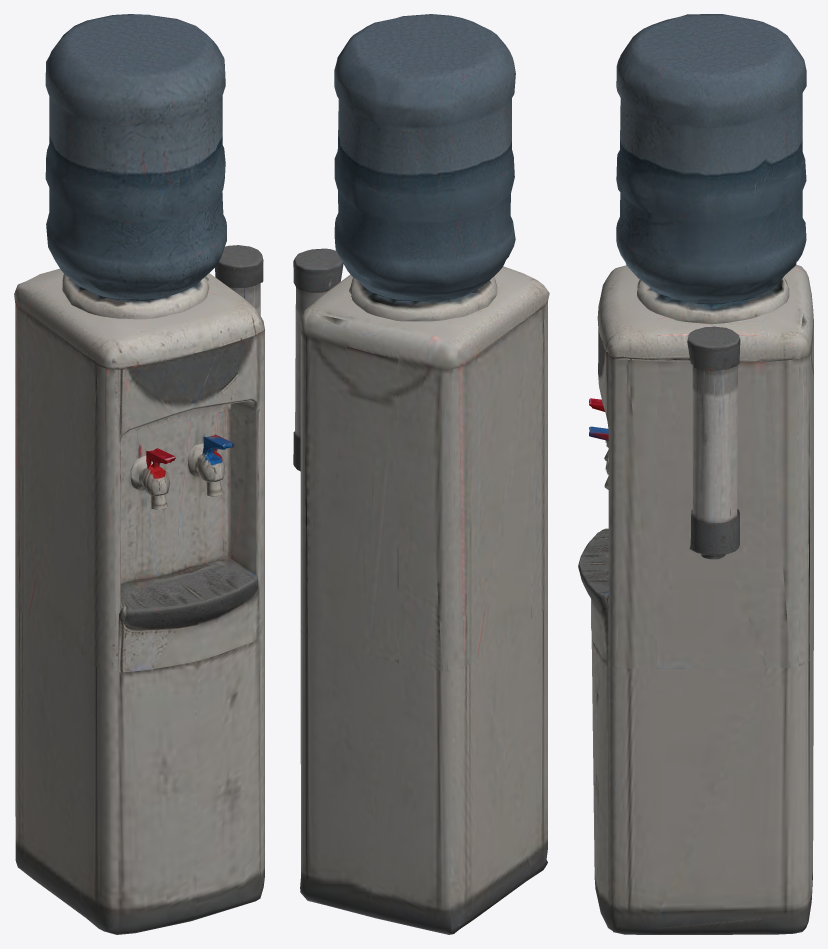
The model's file is p7-water-cooler-t25.glb.
The picture shows the model from 3 angles, left to right: view 1: azimuth 30°, elevation 25°; view 2: azimuth 150°, elevation 25°; view 3: azimuth 270°, elevation 25°; orthographic projection.
Visible parts, largest first — view 1: p7-water-cooler-t25; view 2: p7-water-cooler-t25; view 3: p7-water-cooler-t25.
Part boxes in pixels (<box>): p7-water-cooler-t25: <box>14,14,264,934</box>; p7-water-cooler-t25: <box>293,14,549,934</box>; p7-water-cooler-t25: <box>578,14,813,934</box>.
Size of the model in its own units: 0.358 by 1.4 by 0.35.
Materials: 1 (1 with a texture image).
